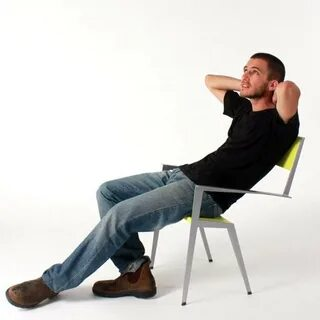awake: (5, 52, 301, 309)
